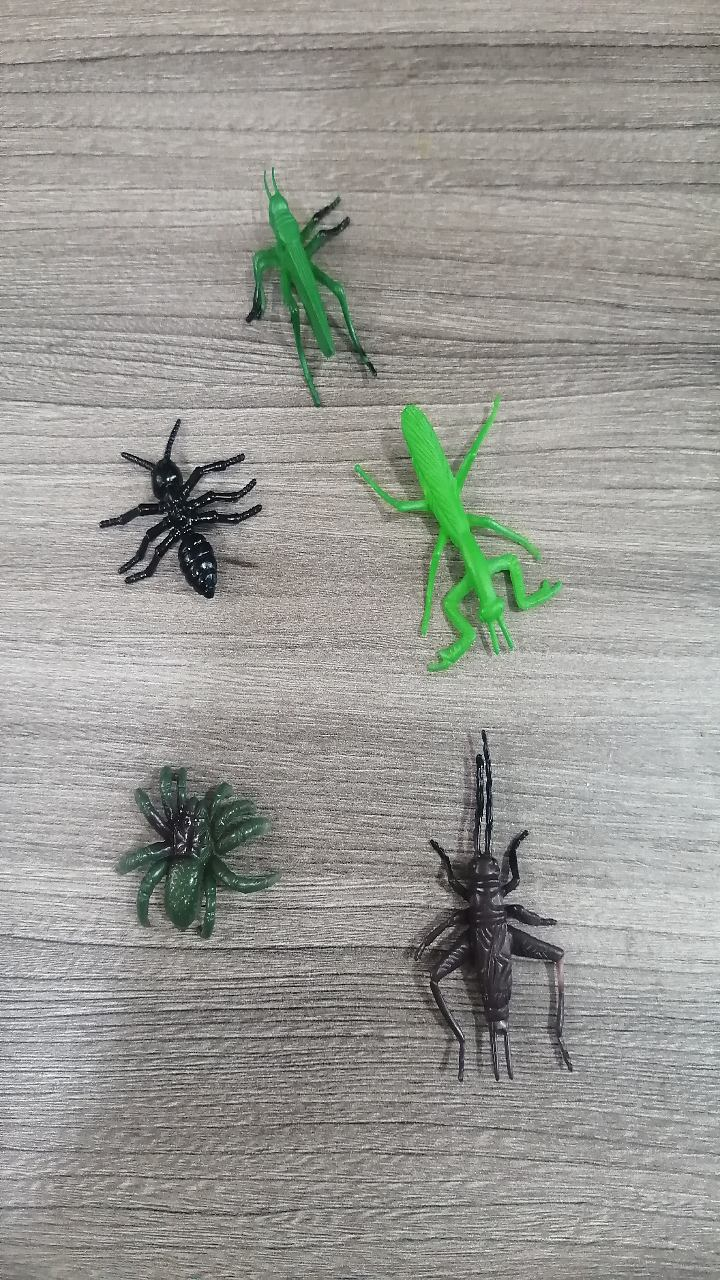intruso: (346, 702, 600, 1089), (61, 702, 334, 1005), (328, 366, 588, 674), (208, 137, 398, 408), (92, 385, 284, 642)
